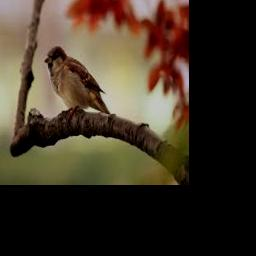Sparrow: (44, 46, 111, 115)
